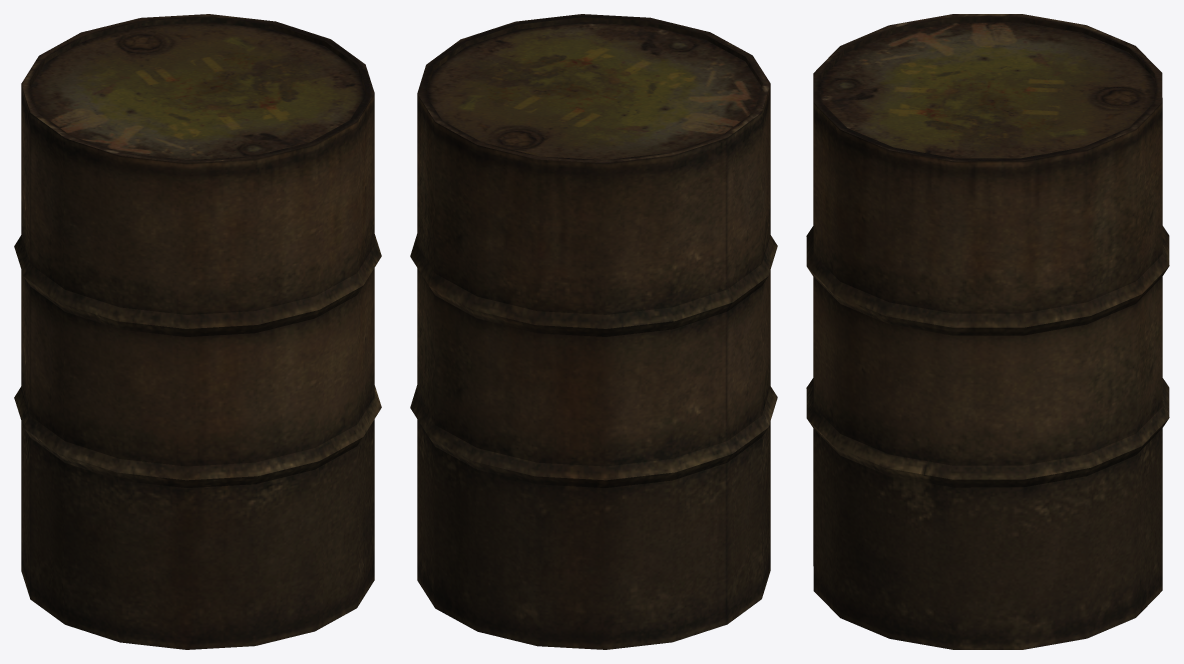
File: metal_barrel_hr_1.obj
The picture shows the model from 3 angles, left to right: view 1: azimuth 30°, elevation 25°; view 2: azimuth 150°, elevation 25°; view 3: azimuth 270°, elevation 25°; orthographic projection.
Visible parts, largest first — view 1: metal_barrel_hr_1; view 2: metal_barrel_hr_1; view 3: metal_barrel_hr_1.
Boxes of the visible parts, x1,y1,x2,y2 form: metal_barrel_hr_1: (14,14,381,649); metal_barrel_hr_1: (410,14,777,649); metal_barrel_hr_1: (806,14,1169,649).
Bounding box in the file's own units: 0.6735 × 1 × 0.6735.
